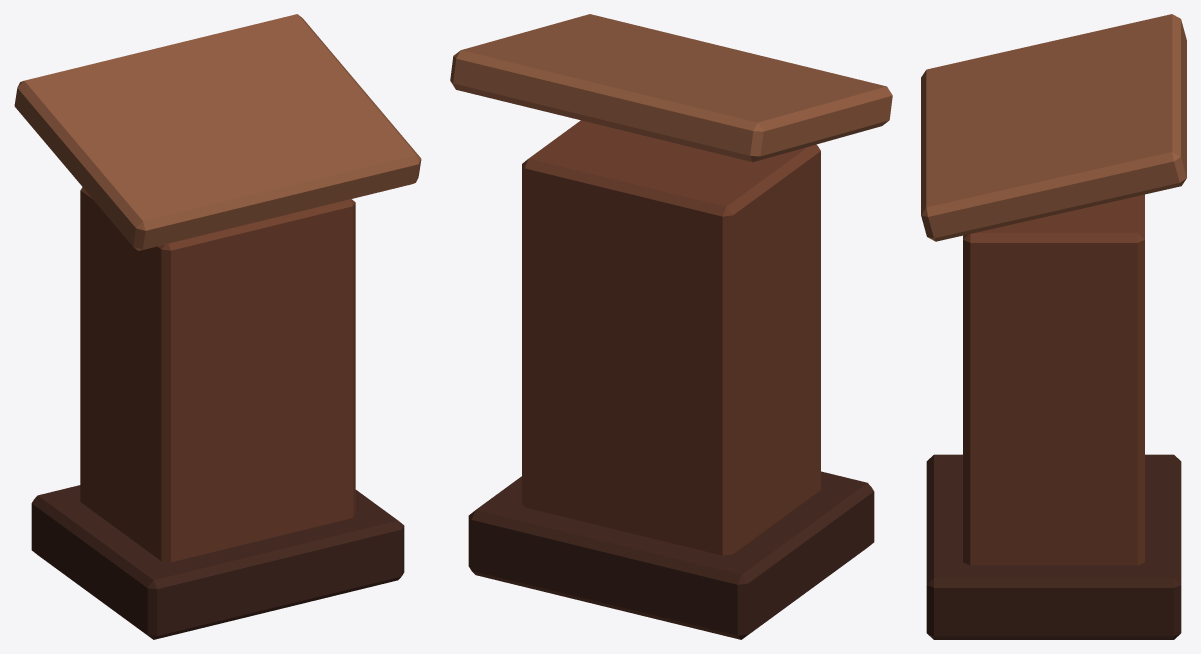
File: lectern_02.glb
3 views of the same model, side by side, from view 1: azimuth 30°, elevation 25°; view 2: azimuth 150°, elevation 25°; view 3: azimuth 270°, elevation 25° (orthographic). The views are drawn at different scales.
Parts seen in each view (by area): view 1: Pedestal, Slope, Foot; view 2: Pedestal, Slope, Foot; view 3: Pedestal, Slope, Foot.
Boxes of the visible parts, <box> form: Pedestal: <box>80,187,355,562</box>; Slope: <box>14,14,421,250</box>; Foot: <box>31,485,404,639</box>; Pedestal: <box>522,120,820,555</box>; Slope: <box>450,14,892,162</box>; Foot: <box>468,471,874,639</box>; Pedestal: <box>963,194,1144,565</box>; Slope: <box>921,14,1186,241</box>; Foot: <box>926,454,1181,639</box>.
Bounding box in the file's own units: 0.7 × 1.12 × 0.5458.
